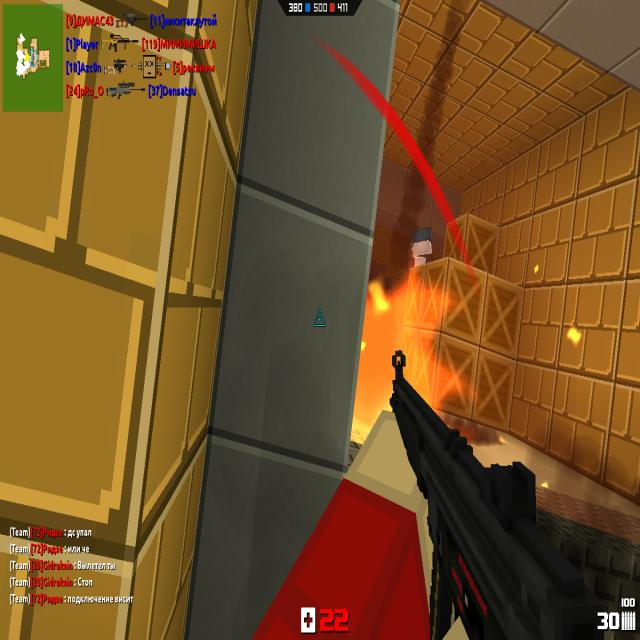enemy: (405, 221, 433, 273), (372, 274, 393, 320)
